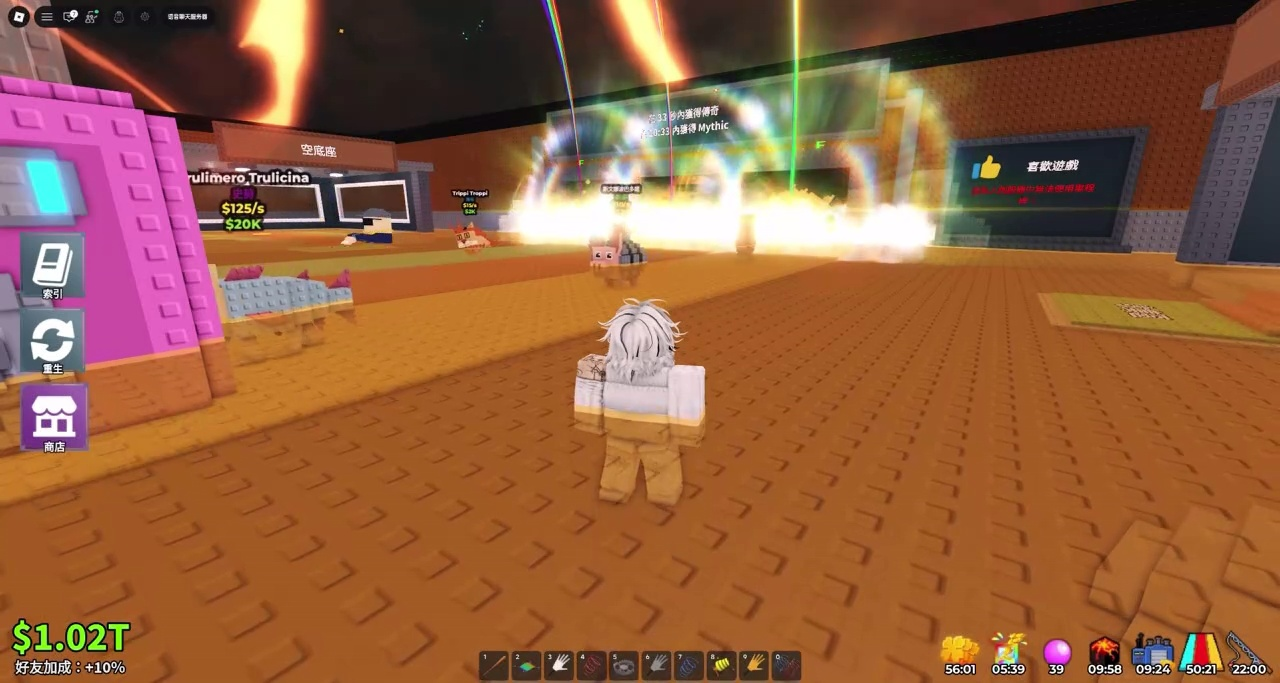price_tag: (415, 188, 457, 215), (253, 181, 280, 201)
